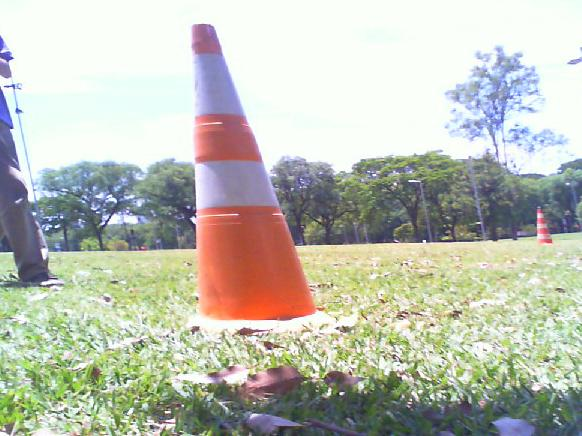0 cone: (188, 23, 331, 337), (536, 210, 552, 247)
